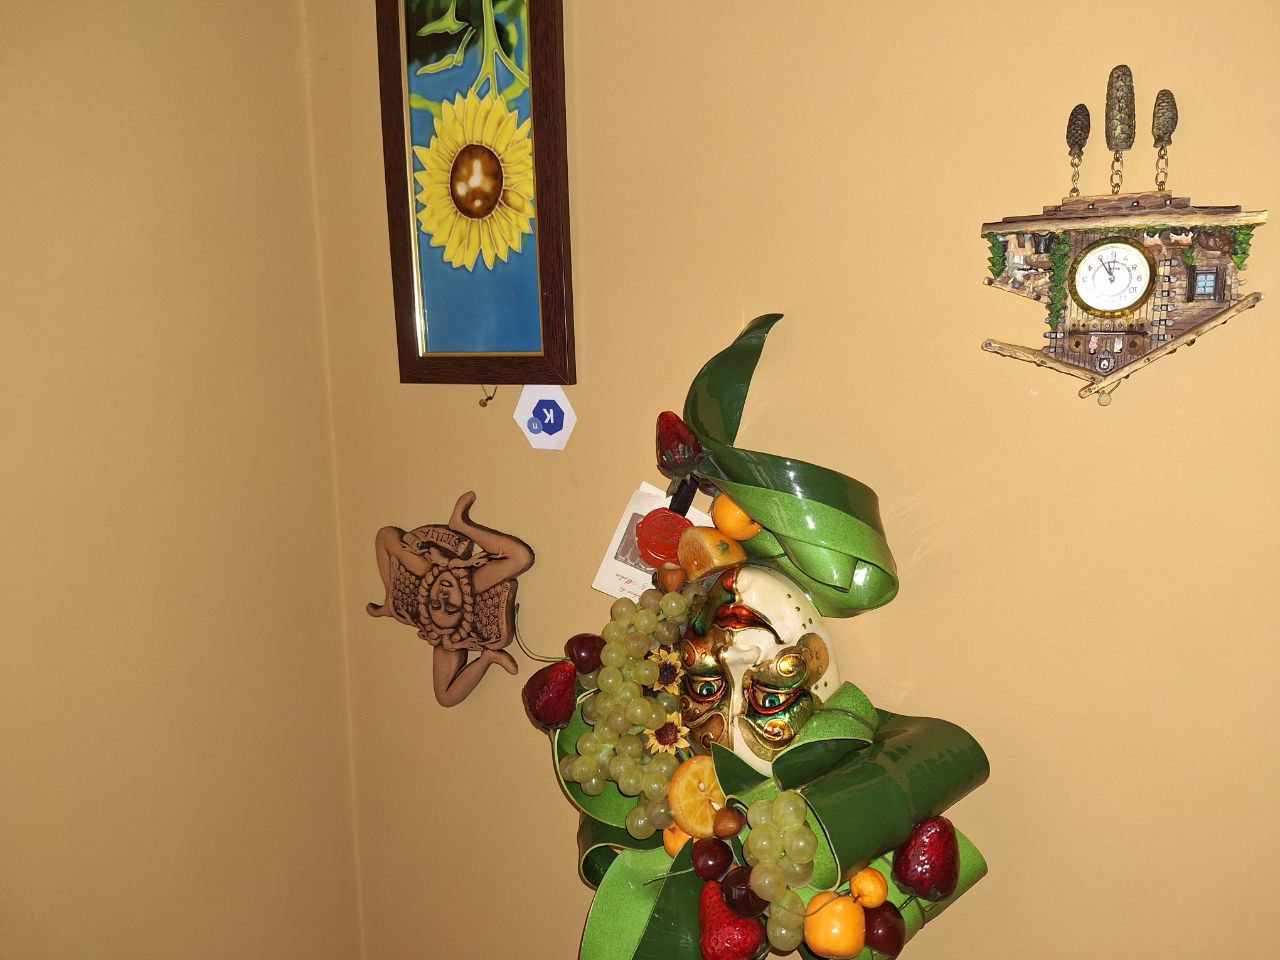knative: (527, 397, 564, 435)
